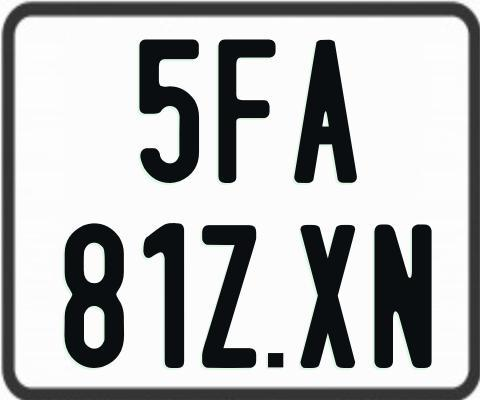1: (141, 221, 182, 366)
5: (138, 38, 198, 183)
8: (62, 220, 124, 370)
A: (292, 39, 361, 187)
F: (217, 39, 280, 186)
N: (372, 222, 430, 371)
X: (300, 224, 358, 370)
Z: (201, 225, 261, 370)
